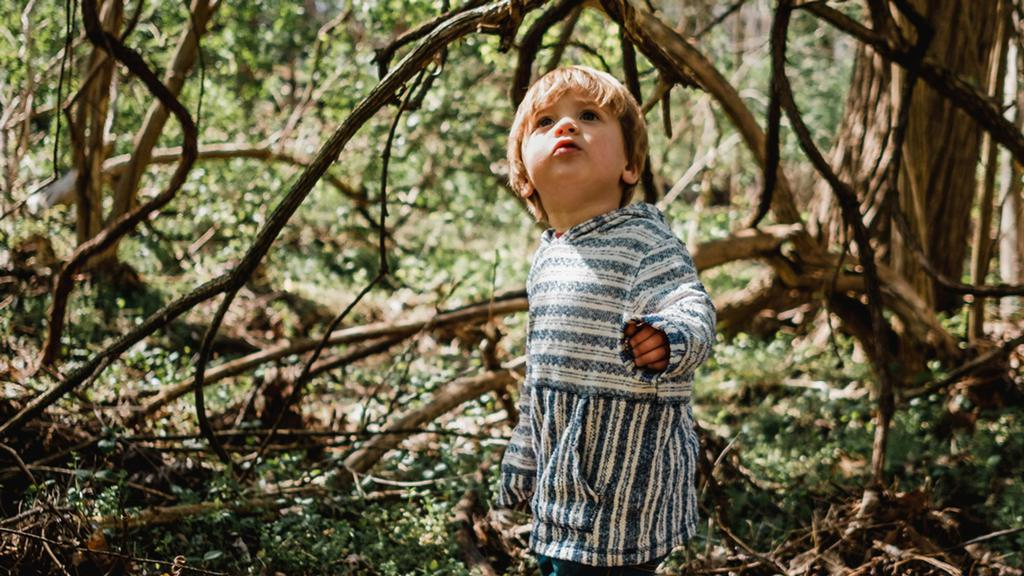child: (446, 69, 735, 576)
